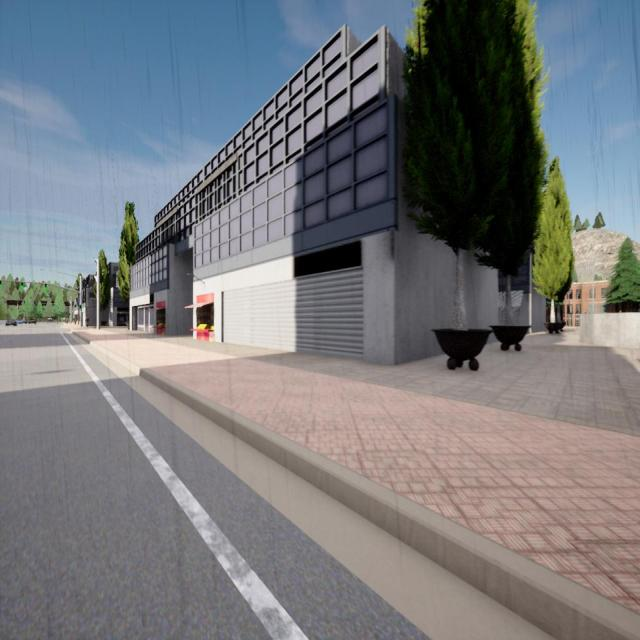Pedestrian: (86, 315, 89, 328)
Vehicle: (5, 318, 17, 326), (28, 318, 36, 324), (17, 319, 23, 325), (48, 317, 52, 323), (23, 319, 27, 324)
traffic_light: (0, 281, 2, 288), (21, 282, 23, 288), (45, 284, 47, 290), (80, 305, 82, 311)
